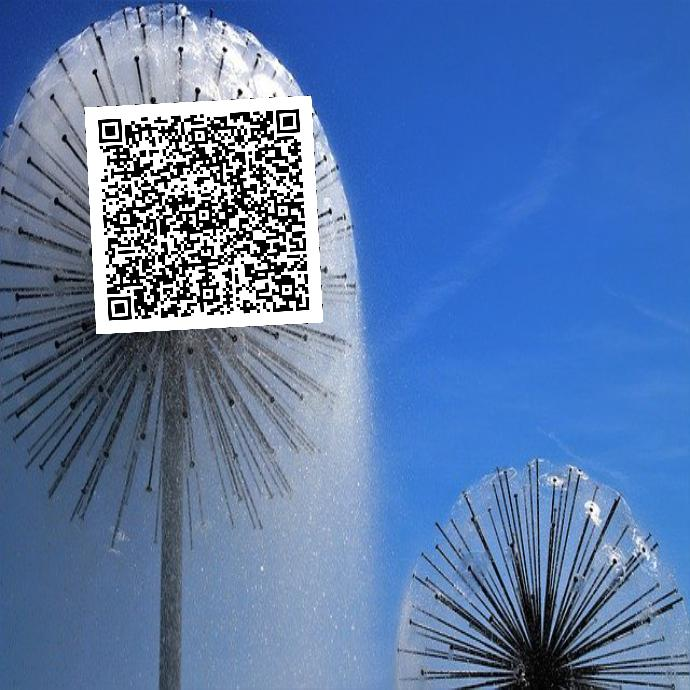qr_code: (84, 95, 322, 333)
